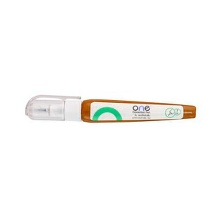correction_fluid: (21, 90, 198, 126)
